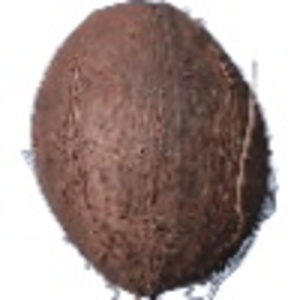coco: (24, 1, 279, 300)
